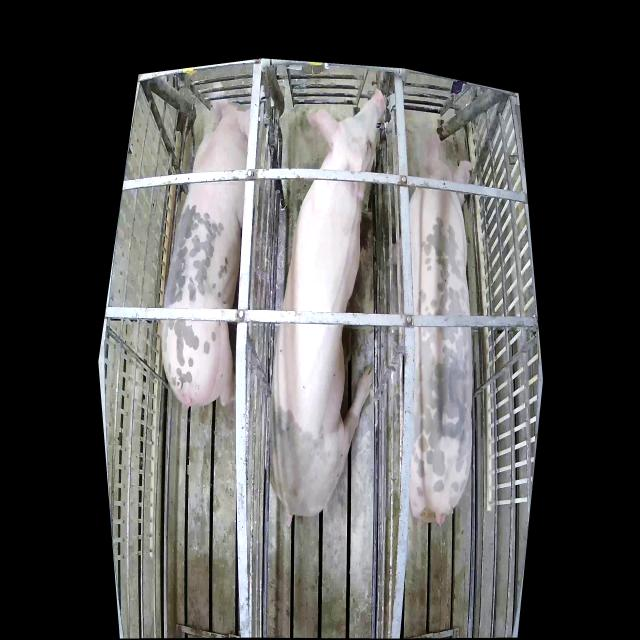pig: (270, 90, 386, 516), (161, 82, 250, 407), (409, 133, 472, 523)
